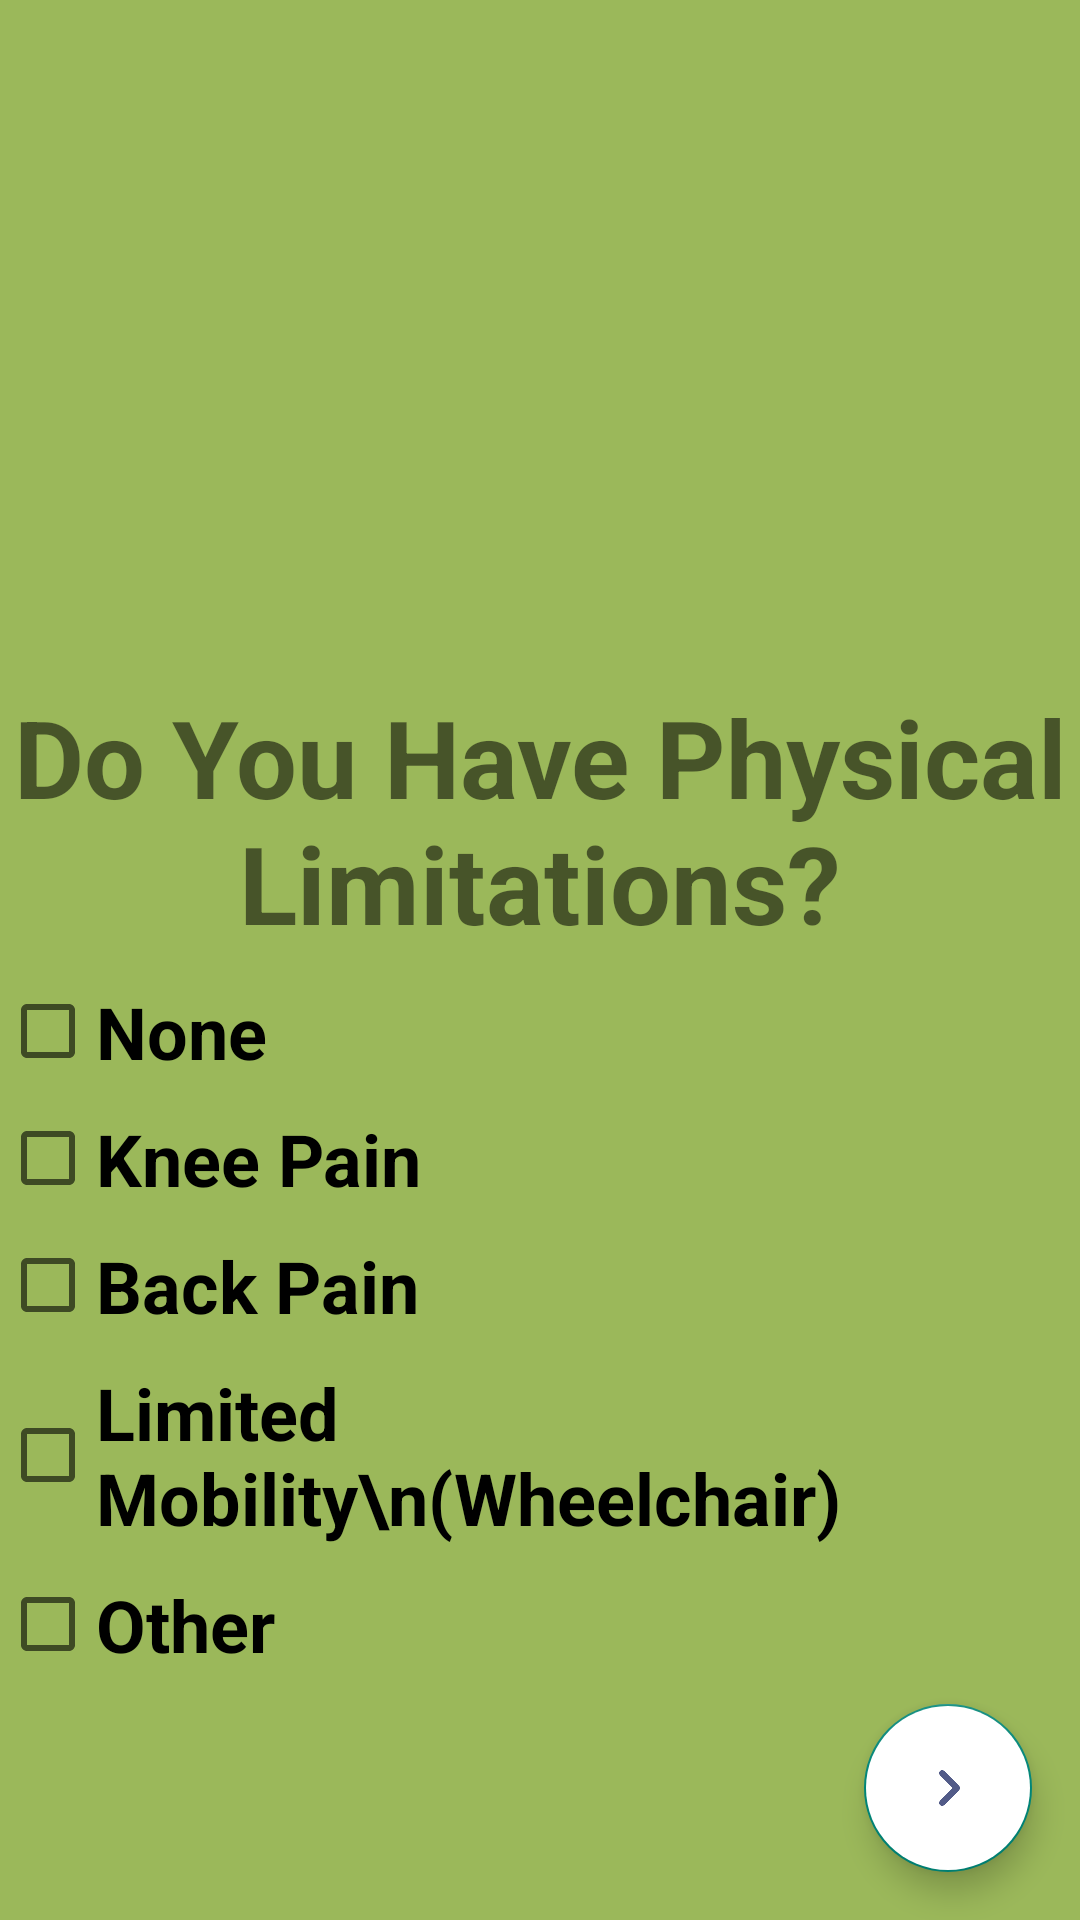

Point at icon controls on the screen. Image size 1080px x 1920px, points as (x=x, y=y).
next: (x=948, y=1788)
